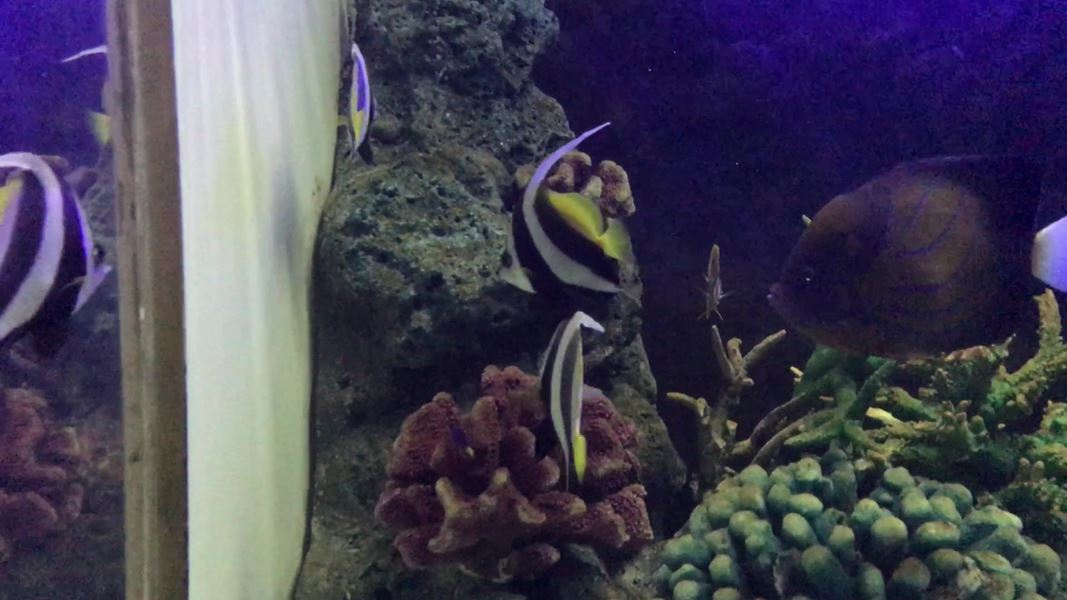Blue ring angelfish: (769, 131, 1067, 369)
